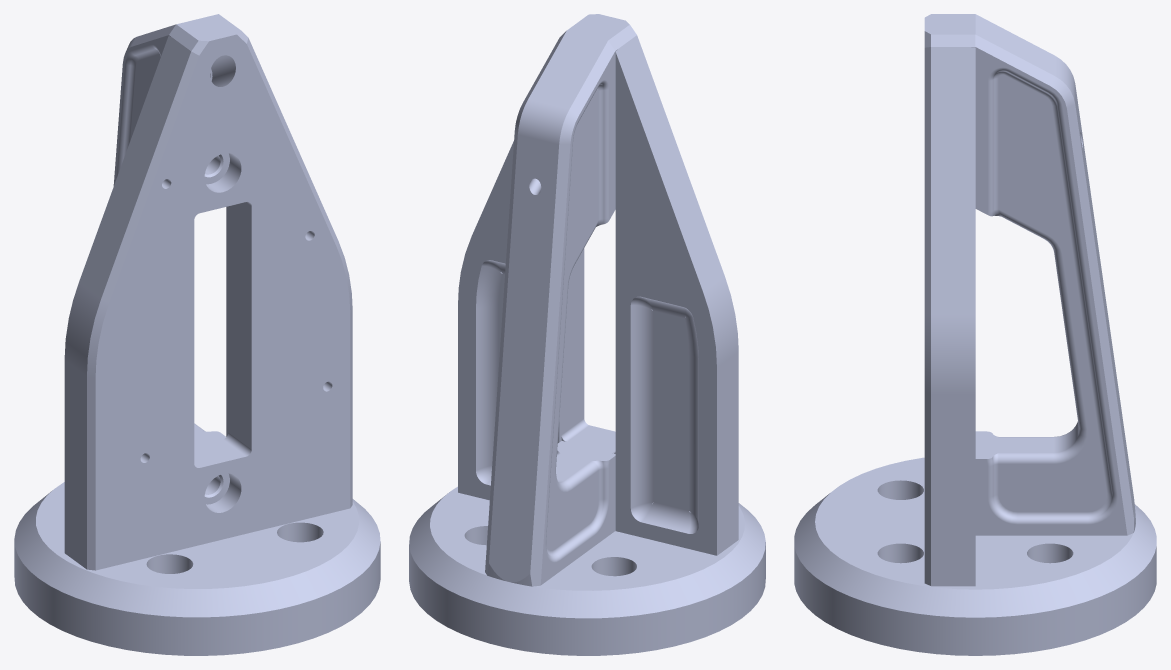
The model's file is needle_holder.dae.
3 renders of one model, left to right at view 1: azimuth 30°, elevation 25°; view 2: azimuth 150°, elevation 25°; view 3: azimuth 270°, elevation 25°, orthographic. The views are drawn at different scales.
Visible parts, largest first — view 1: 0204_MECA_024_SPEC.stp, 0204_MECA_023_SPEC.stp, 0204_MECA_025_SPEC.stp; view 2: 0204_MECA_024_SPEC.stp, 0204_MECA_025_SPEC.stp, 0204_MECA_023_SPEC.stp; view 3: 0204_MECA_025_SPEC.stp, 0204_MECA_023_SPEC.stp, 0204_MECA_024_SPEC.stp.
Part boxes in pixels (x1,y1,x2,y2): 0204_MECA_024_SPEC.stp: [64, 15, 352, 570]; 0204_MECA_023_SPEC.stp: [14, 482, 380, 655]; 0204_MECA_025_SPEC.stp: [113, 14, 226, 446]; 0204_MECA_024_SPEC.stp: [458, 14, 738, 555]; 0204_MECA_025_SPEC.stp: [485, 29, 617, 586]; 0204_MECA_023_SPEC.stp: [409, 486, 765, 655]; 0204_MECA_025_SPEC.stp: [971, 14, 1135, 535]; 0204_MECA_023_SPEC.stp: [794, 457, 1156, 655]; 0204_MECA_024_SPEC.stp: [924, 14, 975, 586].
Bounding box in the file's own units: 0.086 × 0.0859 × 0.15.
